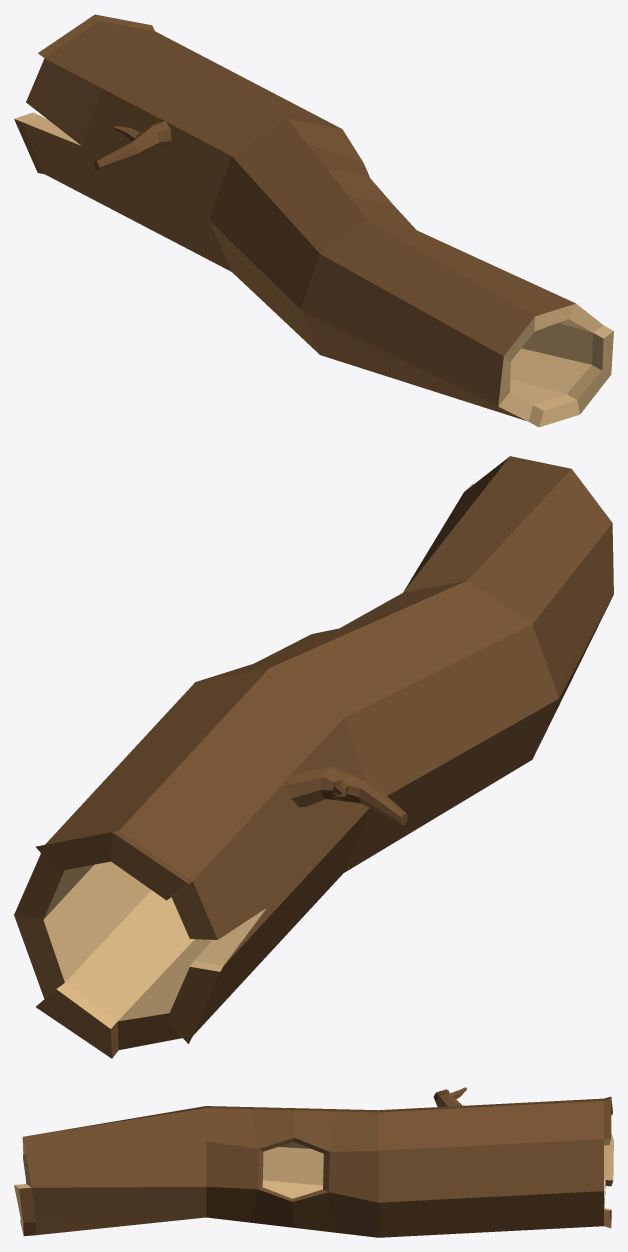
Rendered from fallen_log.fbx.
3 views of the same model, one above another, from view 1: azimuth 30°, elevation 25°; view 2: azimuth 150°, elevation 25°; view 3: azimuth 270°, elevation 25° (orthographic). The views are drawn at different scales.
Visible parts, largest first — view 1: Circle; view 2: Circle; view 3: Circle.
Boxes of the visible parts, box(x1,y1,x2,y2) form: Circle: box(14, 14, 613, 427); Circle: box(14, 456, 613, 1058); Circle: box(14, 1087, 613, 1237).
Size of the model in its own units: 276 by 192 by 818.
